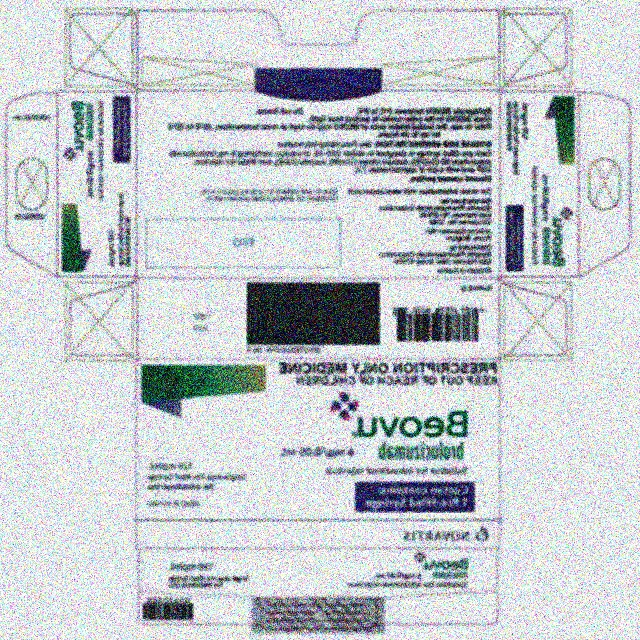Artwork: (0, 0, 640, 640)
Back_Panel: (136, 90, 500, 278)
Bottom_Part: (58, 91, 137, 277)
Extra_Areas: (137, 9, 499, 90), (3, 92, 57, 278), (579, 91, 632, 277), (67, 278, 137, 359), (499, 9, 569, 89), (68, 10, 137, 91), (499, 279, 568, 358)
Front_Panel: (137, 358, 501, 549)
Side_Panel: (137, 278, 499, 359), (140, 549, 501, 623)
Top_Panel: (499, 91, 579, 277)
